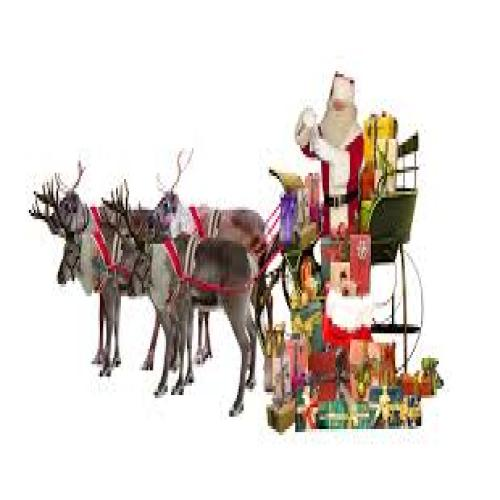Santa: (294, 68, 366, 236)
